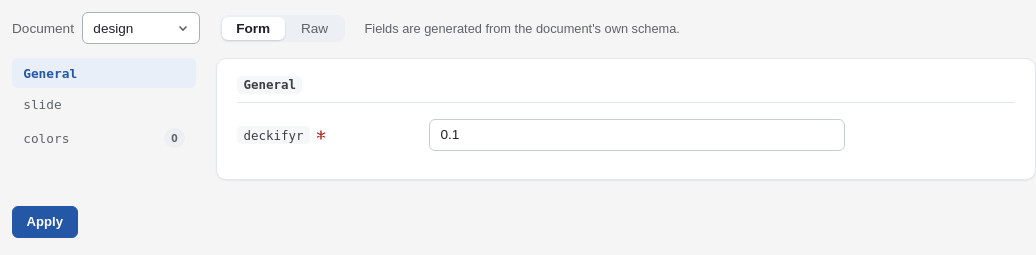
Test case: ConfigEditor › clears the unapplied flag and confirms after Apply
Replace the text in the field showing "0.1" with "0.2" at [637, 135], box [429, 119, 845, 151]
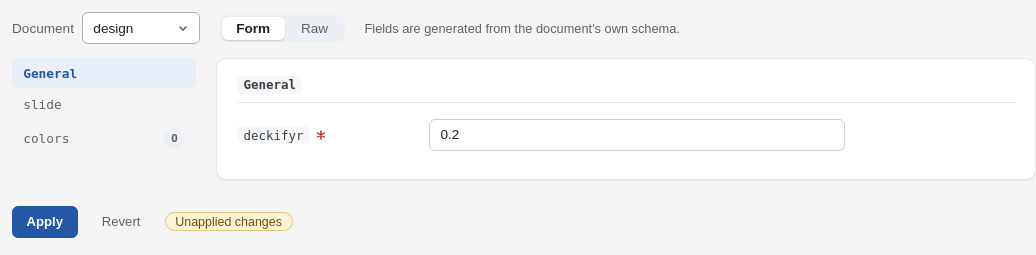
Click the button "Apply" at [45, 222], box [12, 206, 78, 238]
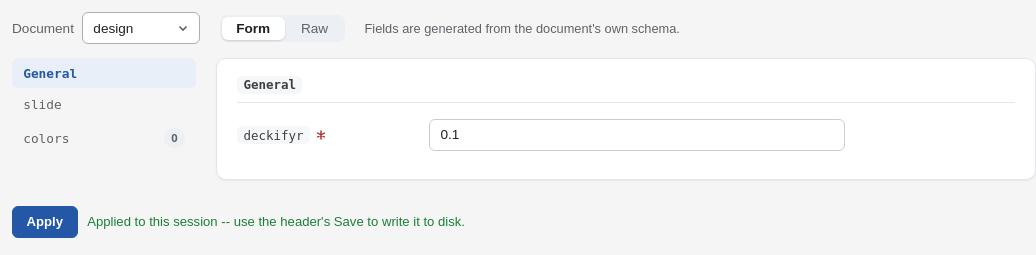
Expected: the text "Applied to this session" is shown, [87, 214, 465, 229]
Expected: the text "Unapplied changes" is gone
